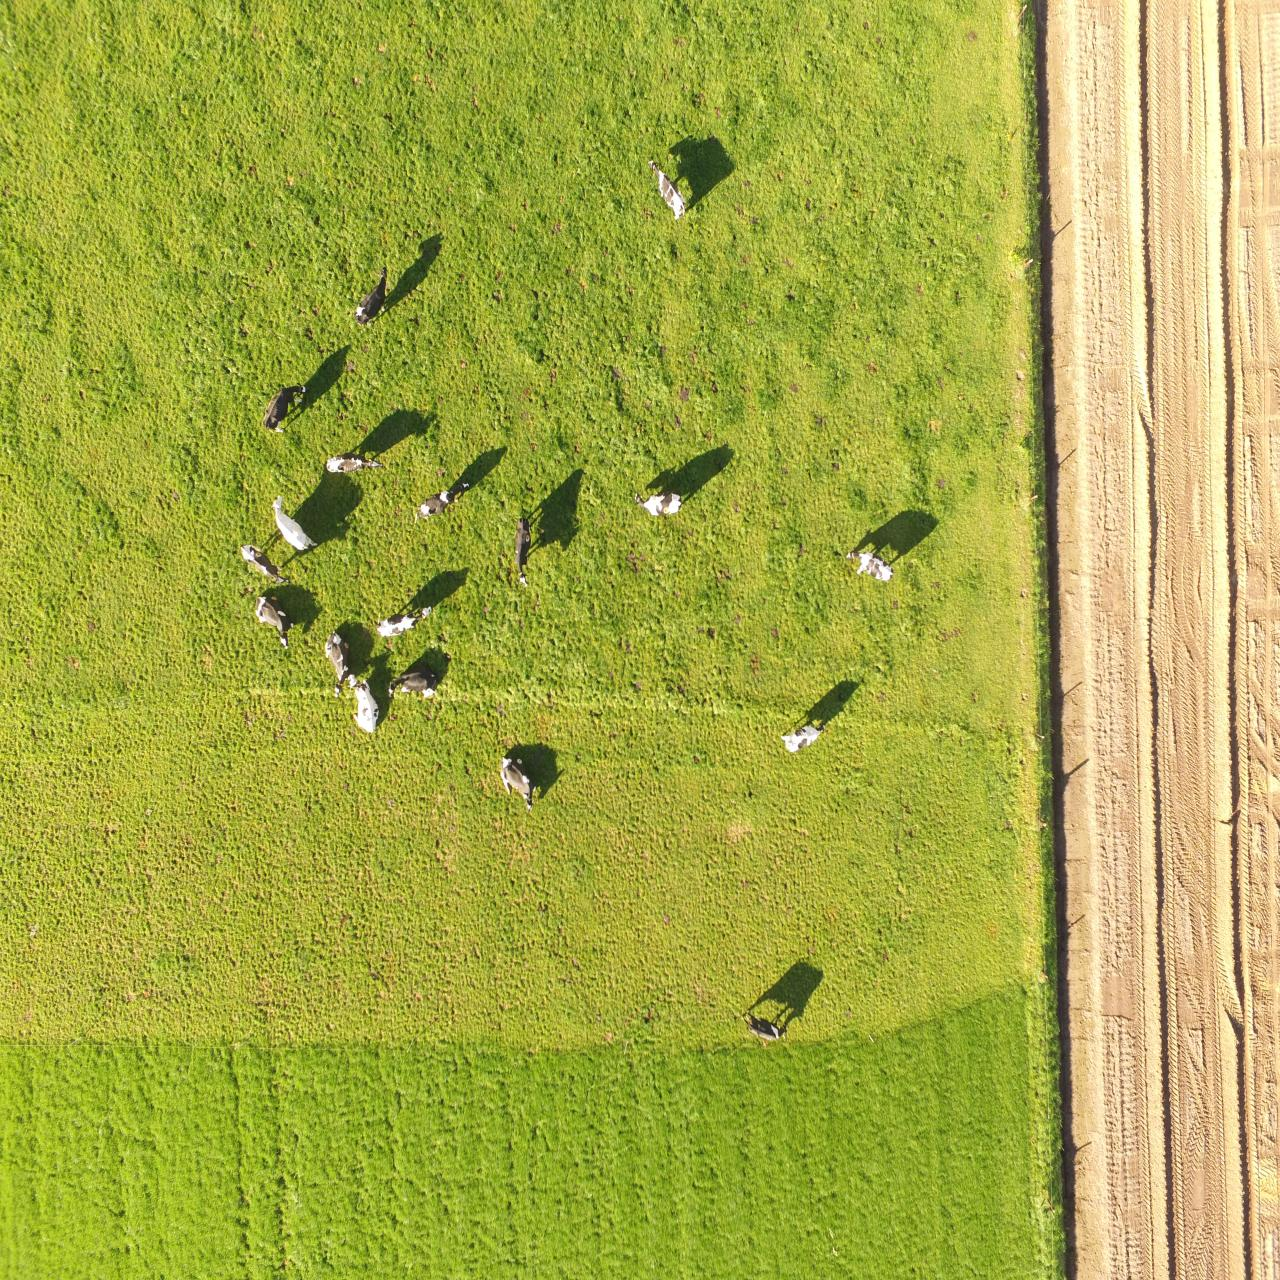cow: (347, 259, 396, 325), (407, 478, 474, 520), (268, 493, 318, 550), (264, 370, 306, 433), (493, 754, 537, 813), (394, 668, 447, 715), (377, 601, 438, 639), (647, 164, 692, 213), (839, 549, 893, 586), (510, 512, 532, 595), (253, 592, 286, 646), (350, 674, 379, 735), (737, 1013, 789, 1046), (316, 456, 384, 479), (325, 633, 348, 696), (639, 486, 683, 519), (240, 545, 281, 578), (781, 729, 824, 755)
